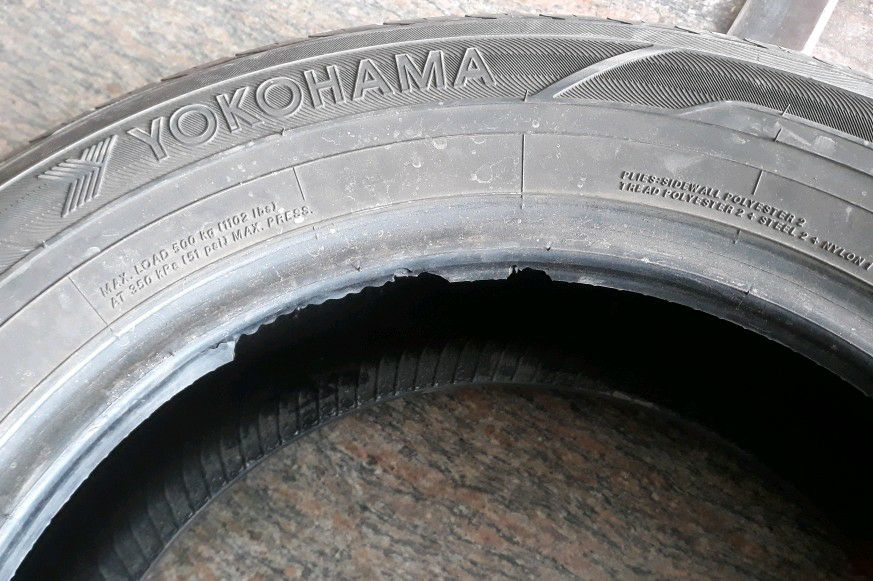bead_damage: (216, 241, 574, 364)
